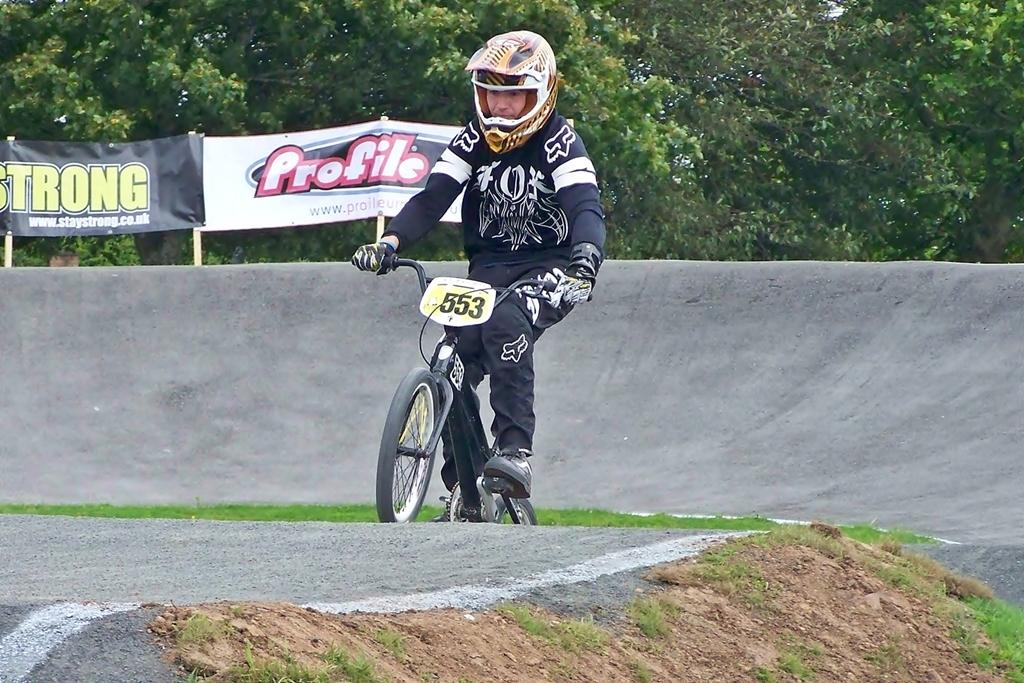helmet: (464, 30, 558, 154)
